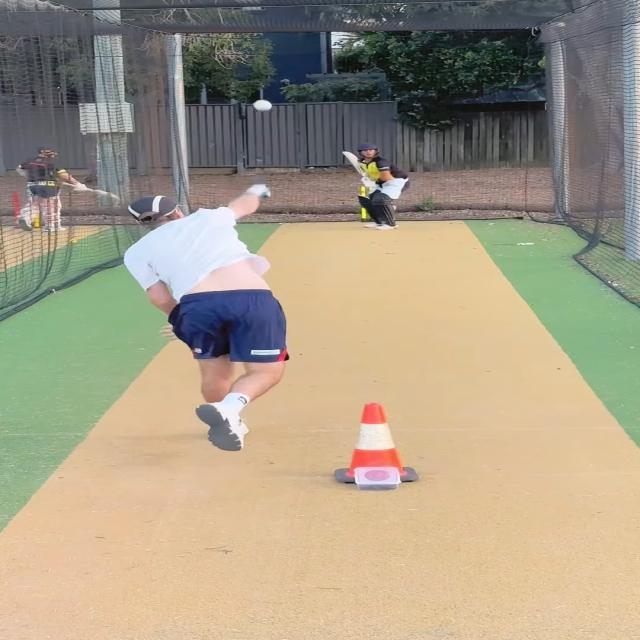Cricket ball: (248, 95, 281, 115)
